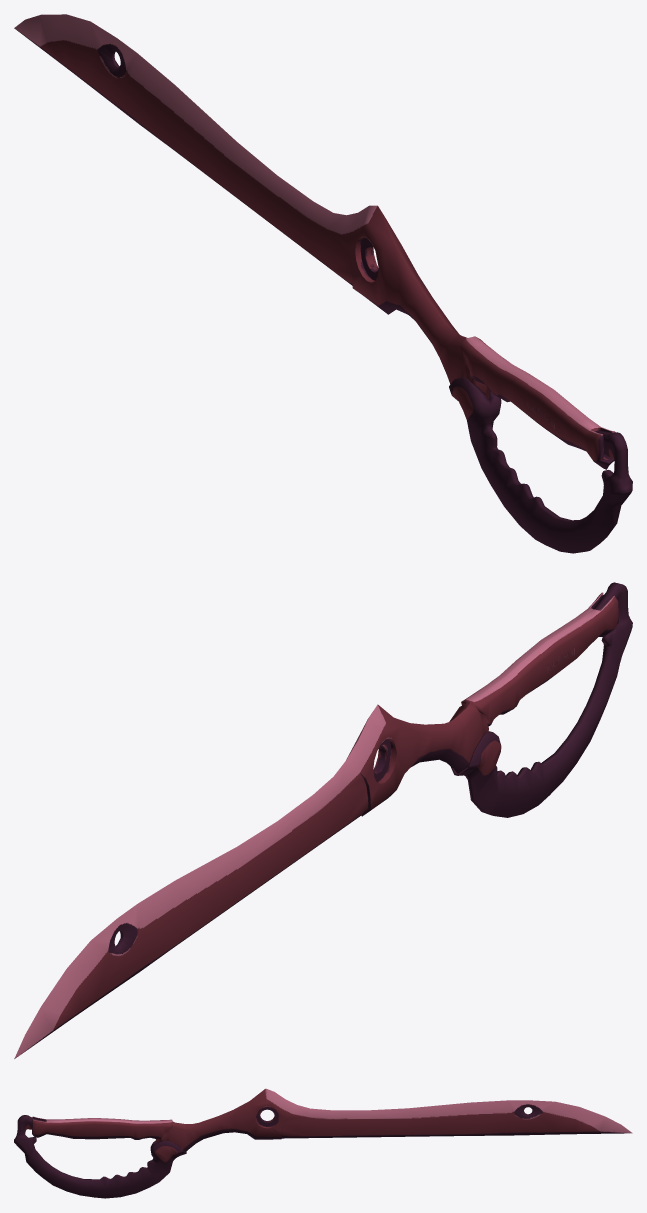
Rendered from ryuko_matoi_scissor.glb.
3 renders of one model, top to bottom at view 1: azimuth 30°, elevation 25°; view 2: azimuth 150°, elevation 25°; view 3: azimuth 270°, elevation 25°, orthographic. The views are drawn at different scales.
Visible parts, largest first — view 1: ratstick; view 2: ratstick; view 3: ratstick.
Part boxes in pixels (x1,y1,x2,y2): ratstick: (14,14,632,553); ratstick: (14,582,632,1058); ratstick: (14,1088,632,1198).
Size of the model in its own units: 3.34 by 24.76 by 127.
Materials: 1 (1 with a texture image).
